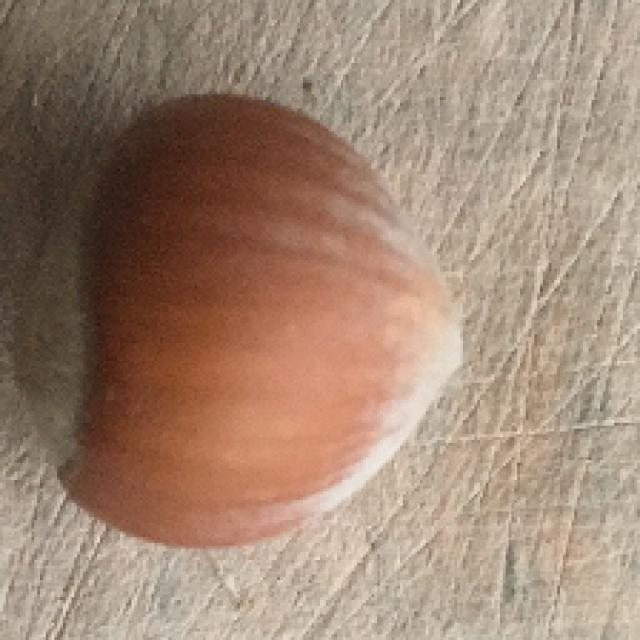qualityHazelnut: (11, 91, 470, 550)
